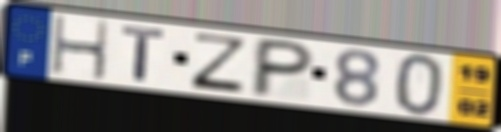0: (391, 52, 446, 118)
8: (331, 47, 384, 109)
H: (50, 14, 111, 83)
P: (246, 36, 319, 99)
T: (119, 25, 170, 84)
Z: (187, 31, 250, 95)
